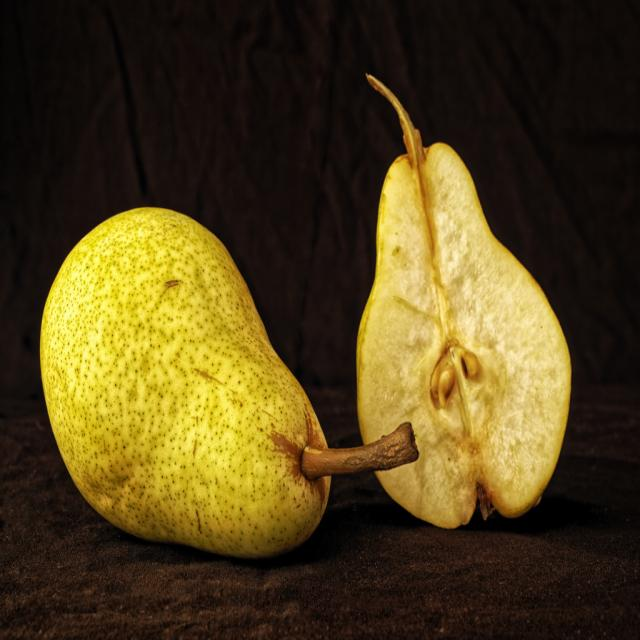pear: (38, 204, 330, 563), (355, 140, 576, 531)
